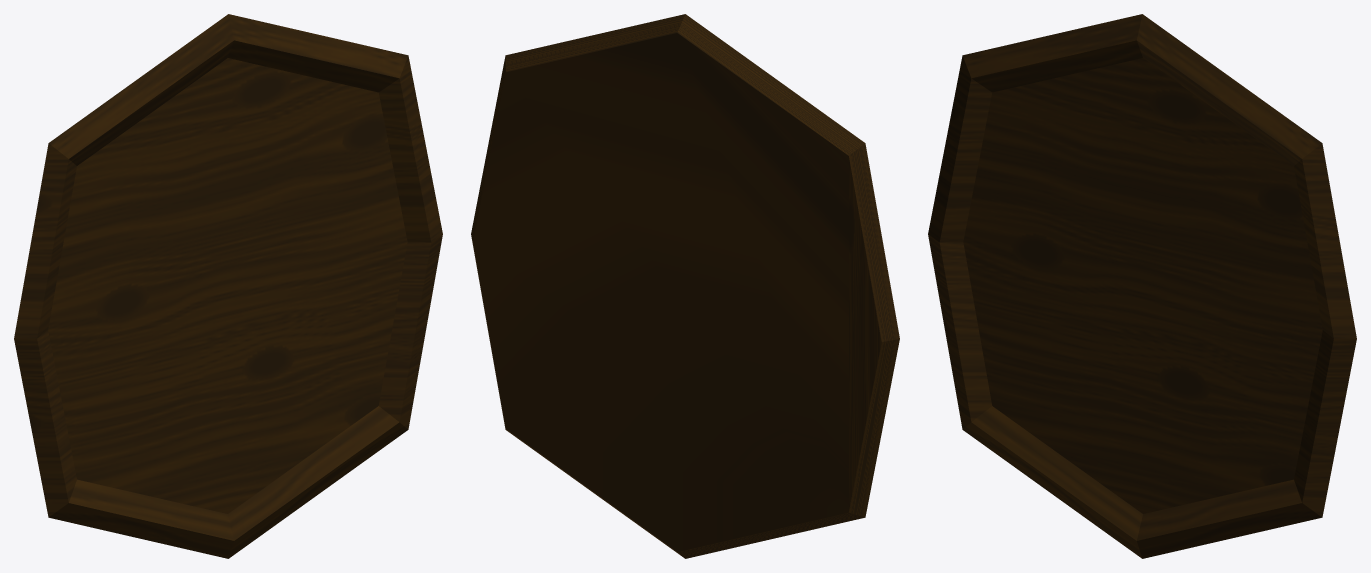
The model's file is MolduraQuadro2.fbx.
3 views of the same model, side by side, from view 1: azimuth 30°, elevation 25°; view 2: azimuth 150°, elevation 25°; view 3: azimuth 330°, elevation 25° (orthographic).
Parts seen in each view (by area): view 1: MolduraQuadro2; view 2: MolduraQuadro2; view 3: MolduraQuadro2.
Part boxes in pixels (<box>): MolduraQuadro2: <box>14,14,442,558</box>; MolduraQuadro2: <box>471,14,899,558</box>; MolduraQuadro2: <box>928,14,1356,558</box>.
Size of the model in its own units: 1.62 by 1.97 by 0.0907.
